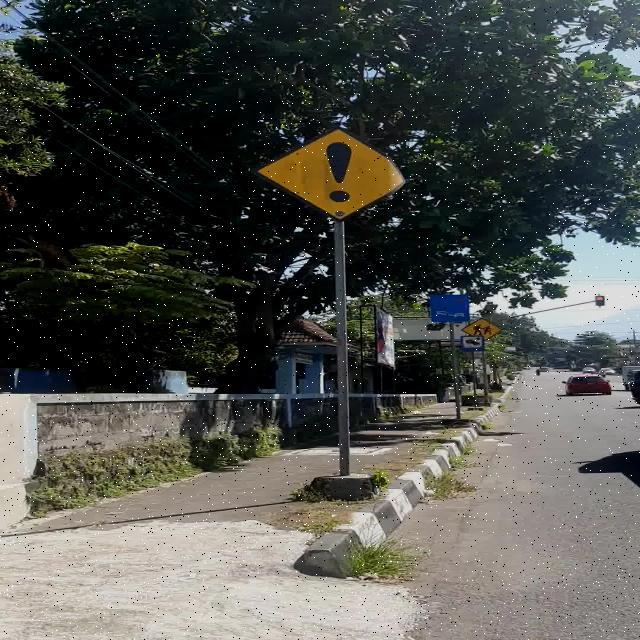Hati-Hati: (252, 126, 404, 222)
